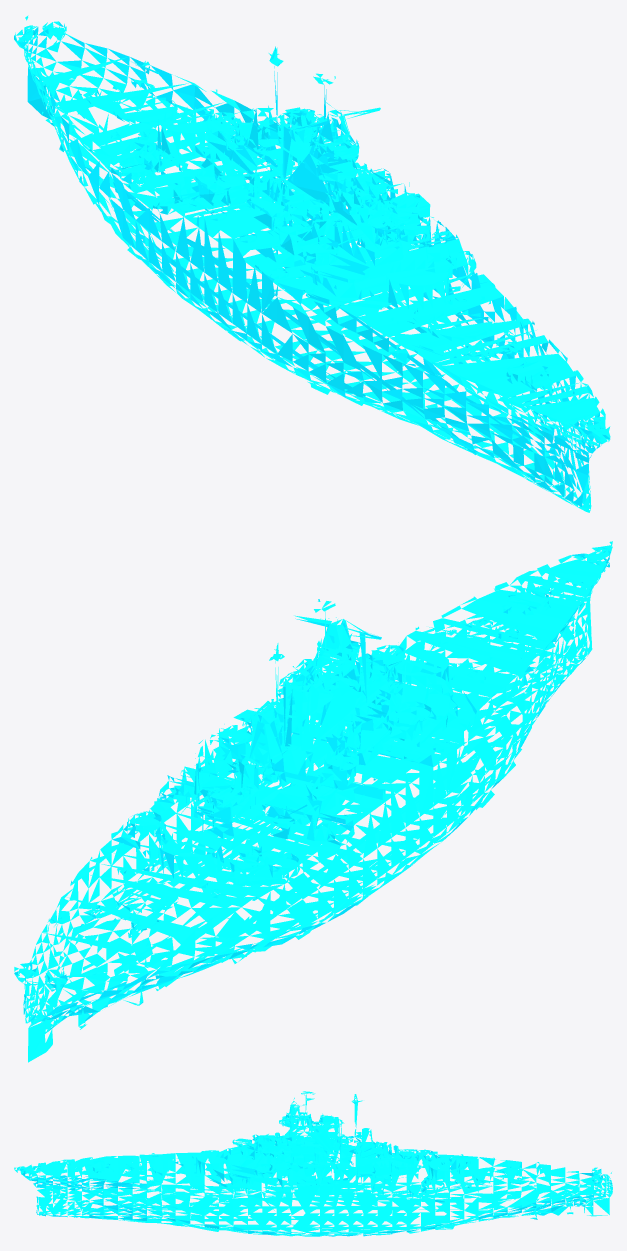
File: West_Virginia.glb
The picture shows the model from 3 angles, top to bottom: view 1: azimuth 30°, elevation 25°; view 2: azimuth 150°, elevation 25°; view 3: azimuth 270°, elevation 25°; orthographic projection. The views are drawn at different scales.
Bounding box in the file's own units: 2.33 × 2.9 × 12.65.
